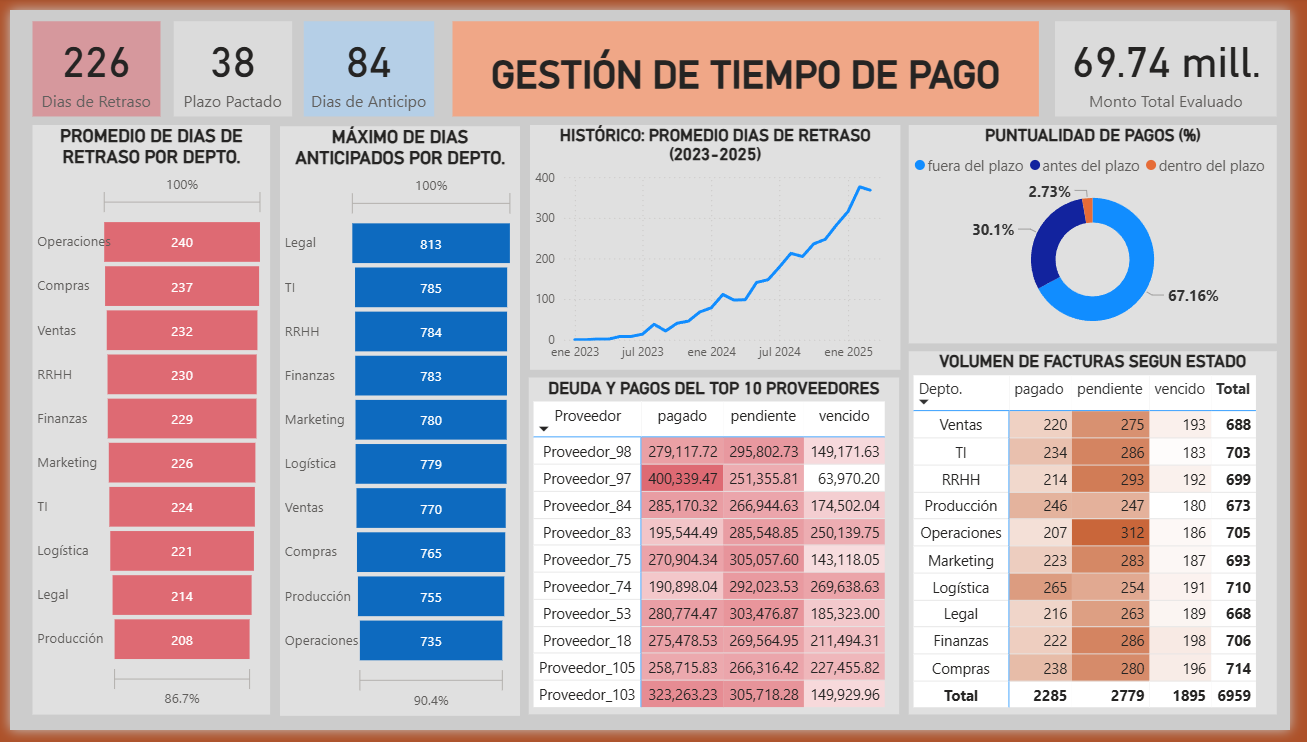

Layout of this report page (visuals, bound fields, positions):
{"tool":"powerbi","page":{"name":"Página 2","canvas":[1280,720],"ordinal":1},"visuals":[{"type":"funnel","title":"PROMEDIO DE DIAS DE RETRASO POR DEPTO.","fields":{"Category":["invoice_time_management.department_name"],"Y":["Avg(invoice_time_management.dias_retraso_corregido)"]},"box":[22.9,114.6,237.7,589.9],"z":0},{"type":"donutChart","title":"PUNTUALIDAD DE PAGOS (%)","fields":{"Category":["invoice_time_management.tipo_pago"],"Y":["CountNonNull(invoice_time_management.invoice_id)"]},"box":[898.8,114.6,368,218.4],"z":1000},{"type":"pivotTable","title":"VOLUMEN DE FACTURAS SEGUN ESTADO","fields":{"Rows":["invoice_time_management.department_name"],"Values":["CountNonNull(invoice_time_management.invoice_id)"],"Columns":["invoice_time_management.final_status"]},"box":[898.8,341.4,368,363.1],"z":2000},{"type":"card","fields":{"Values":["Avg(invoice_time_management.dias_anticipo)"]},"box":[293.2,10.9,130.3,95.3],"z":3000},{"type":"card","fields":{"Values":["Avg(invoice_time_management.plazo_pactado)"]},"box":[164.1,10.9,118.2,95.3],"z":4000},{"type":"card","fields":{"Values":["Sum(invoice_time_management.invoice_amount)"]},"box":[1044.8,10.9,222,95.3],"z":5000},{"type":"card","fields":{"Values":["Avg(invoice_time_management.dias_retraso_corregido)"]},"box":[22.9,10.9,127.9,95.3],"z":6000},{"type":"pivotTable","title":"DEUDA Y PAGOS DEL TOP 10  PROVEEDORES","fields":{"Values":["Sum(invoice_time_management.invoice_amount)"],"Rows":["invoice_time_management.supplier_name"],"Columns":["invoice_time_management.final_status"]},"box":[518.8,368,370.4,336.6],"z":7000},{"type":"lineChart","title":"HISTÓRICO:  PROMEDIO DIAS DE RETRASO (2023-2025) ","fields":{"Y":["Avg(invoice_time_management.dias_retraso_corregido)"],"Category":["invoice_time_management.payment_date.Variación.Jerarquía de fechas.Año","invoice_time_management.payment_date.Variación.Jerarquía de fechas.Mes"]},"box":[520,114.6,370.4,244.9],"z":8000},{"type":"funnel","title":"MÁXIMO DE DIAS ANTICIPADOS POR DEPTO.","fields":{"Category":["invoice_time_management.department_name"],"Y":["Max(invoice_time_management.dias_anticipo)"]},"box":[270.2,115.8,240.1,589.9],"z":9000},{"type":"textbox","box":[442.8,10.9,586.3,95.3],"z":10000}]}

Visuals, with their boxes in screenshot pixels (x1, y1, x2, y2), scaled from the page's 1280x720 canvas onto the 1307x742 screenshot:
"PROMEDIO DE DIAS DE RETRASO POR DEPTO." funnel: box=[23, 118, 266, 726]
"PUNTUALIDAD DE PAGOS (%)" donutChart: box=[918, 118, 1294, 343]
"VOLUMEN DE FACTURAS SEGUN ESTADO" pivotTable: box=[918, 352, 1294, 726]
card - Avg(invoice_time_management.dias_anticipo): box=[299, 11, 432, 109]
card - Avg(invoice_time_management.plazo_pactado): box=[168, 11, 288, 109]
card - Sum(invoice_time_management.invoice_amount): box=[1067, 11, 1294, 109]
card - Avg(invoice_time_management.dias_retraso_corregido): box=[23, 11, 154, 109]
"DEUDA Y PAGOS DEL TOP 10  PROVEEDORES" pivotTable: box=[530, 379, 908, 726]
"HISTÓRICO:  PROMEDIO DIAS DE RETRASO (2023-2025) " lineChart: box=[531, 118, 909, 370]
"MÁXIMO DE DIAS ANTICIPADOS POR DEPTO." funnel: box=[276, 119, 521, 727]
textbox: box=[452, 11, 1051, 109]
